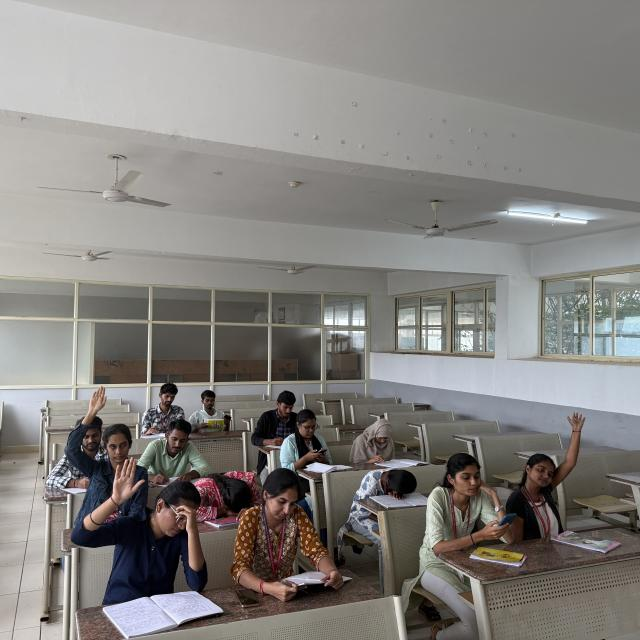Hand Rising: (76, 459, 206, 599), (511, 409, 583, 525), (70, 384, 146, 485)
Reading: (238, 471, 336, 581), (349, 410, 424, 470), (142, 378, 182, 440), (198, 387, 225, 433)
Sleeping: (188, 462, 266, 521), (358, 466, 418, 498)
Using Phone: (427, 451, 518, 541), (288, 406, 336, 468)
Writing: (141, 418, 205, 492), (250, 391, 305, 454)
